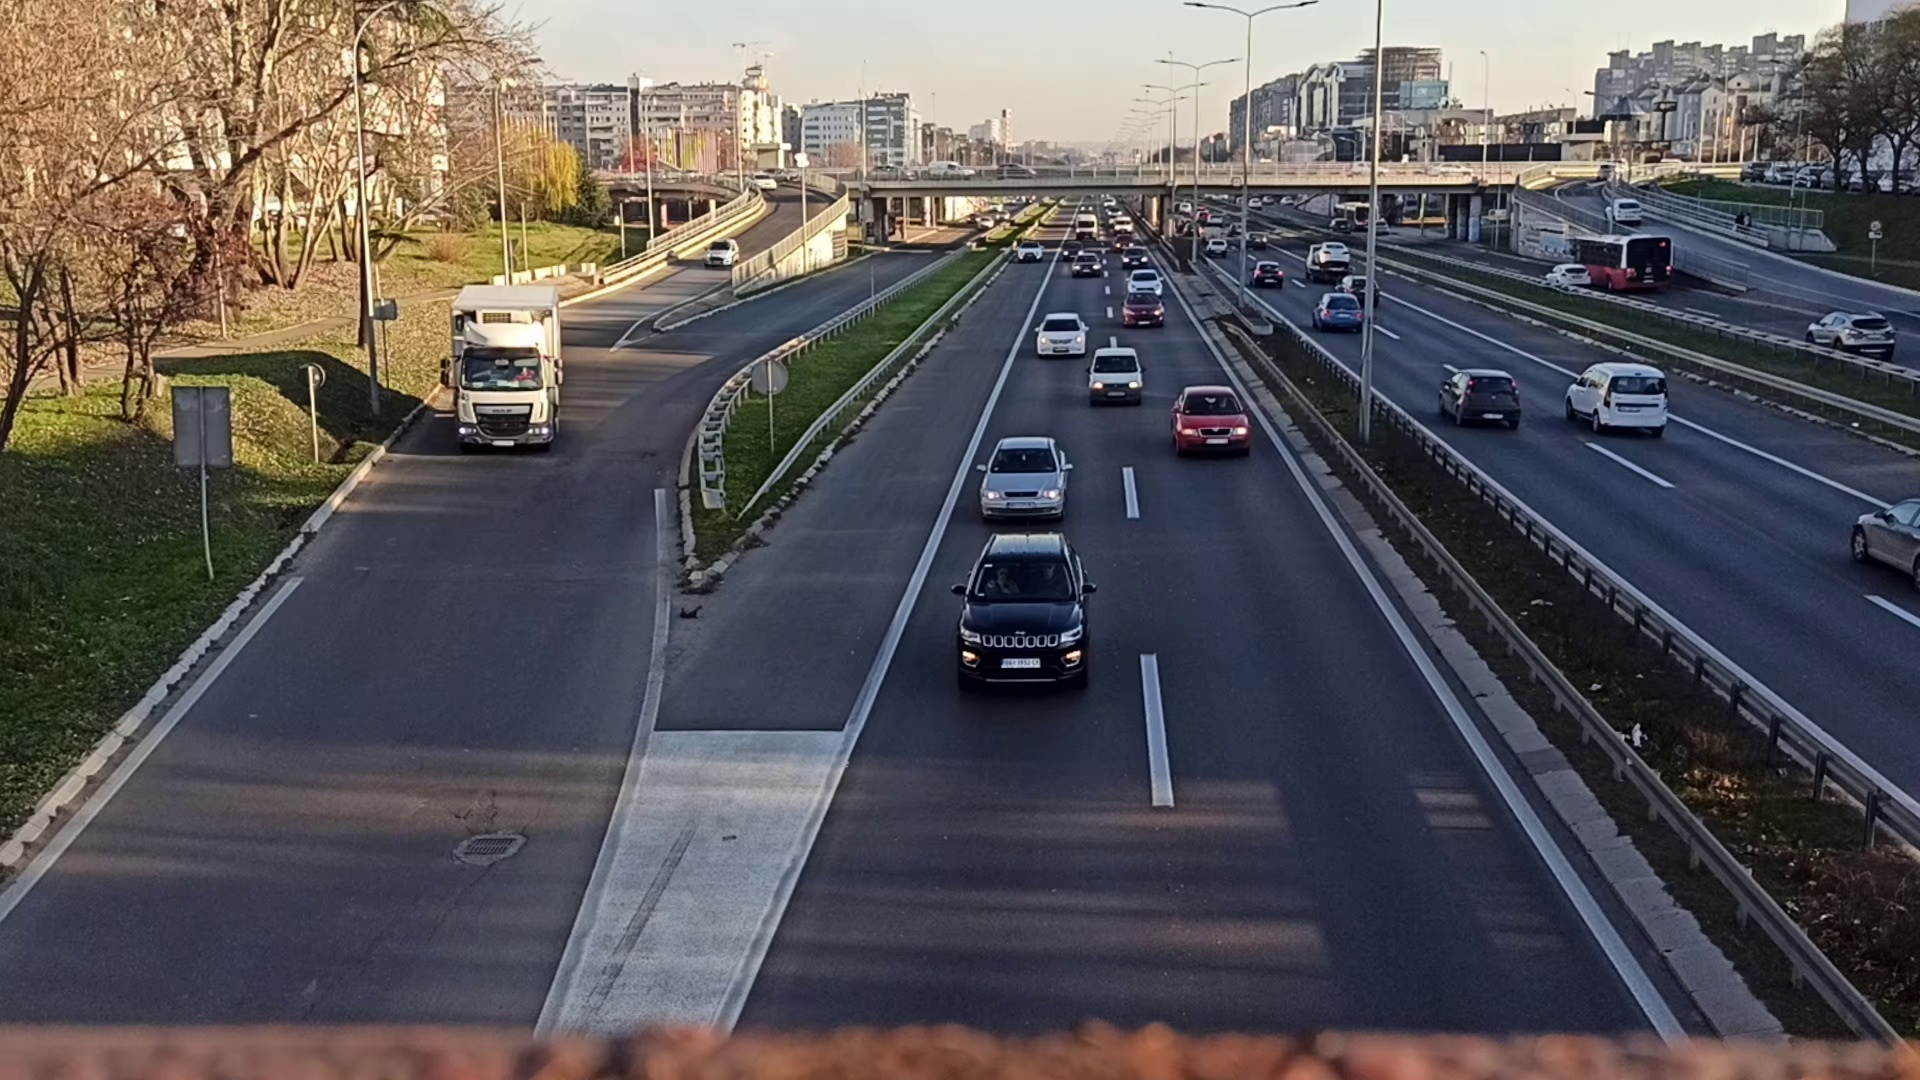car: (960, 539, 1091, 688), (978, 439, 1071, 516), (1172, 384, 1253, 459), (1443, 372, 1520, 429), (1089, 345, 1147, 401), (1034, 307, 1091, 359), (1120, 293, 1164, 326)
truck: (440, 282, 562, 448)
van: (1568, 359, 1669, 434)
